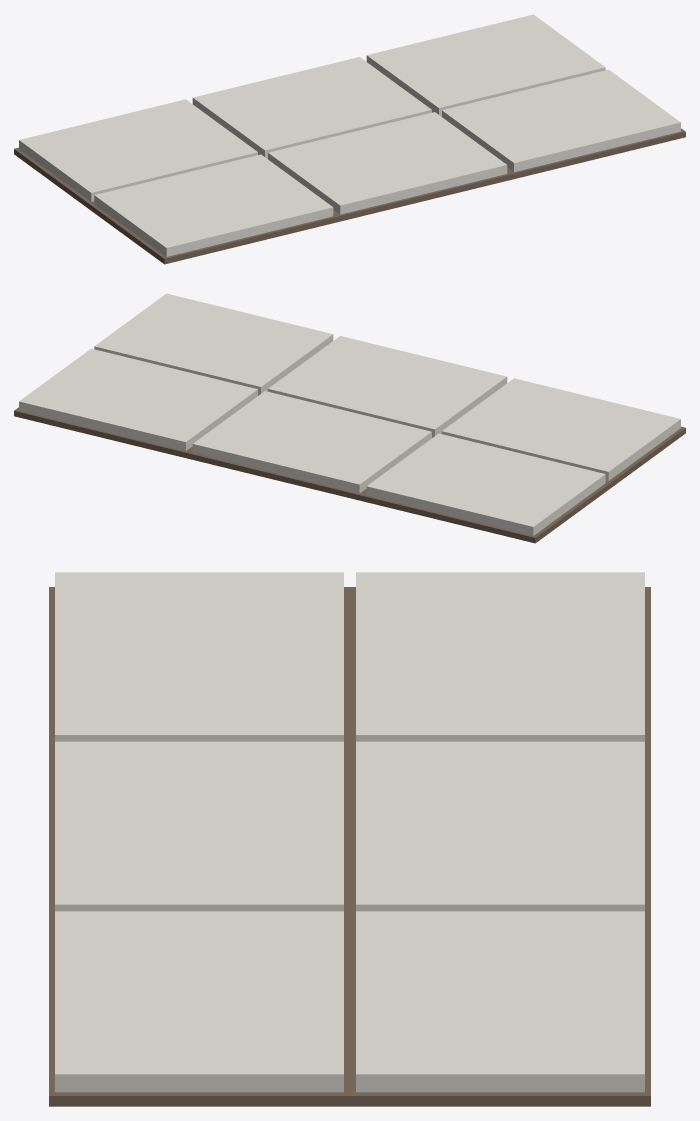
File: botanical-glasshouse-and-palm-house-botanical-glasshou-1d917291__38554.glb
3 views of the same model, one above another, from view 1: azimuth 30°, elevation 25°; view 2: azimuth 150°, elevation 25°; view 3: azimuth 270°, elevation 25° (orthographic). The views are drawn at different scales.
Parts seen in each view (by area): view 1: botanical-glasshouse-and-palm-house-stone-path-module; view 2: botanical-glasshouse-and-palm-house-stone-path-module; view 3: botanical-glasshouse-and-palm-house-stone-path-module.
Part boxes in pixels (left/top/right/bottom): botanical-glasshouse-and-palm-house-stone-path-module: left=14, top=14, right=685, bottom=264; botanical-glasshouse-and-palm-house-stone-path-module: left=14, top=293, right=685, bottom=543; botanical-glasshouse-and-palm-house-stone-path-module: left=49, top=572, right=650, bottom=1106.
Size of the model in its own units: 3 by 0.0799 by 1.5.
